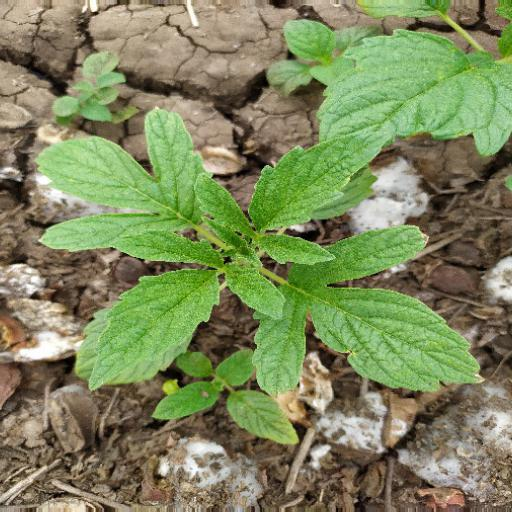crop: (40, 3, 490, 407)
